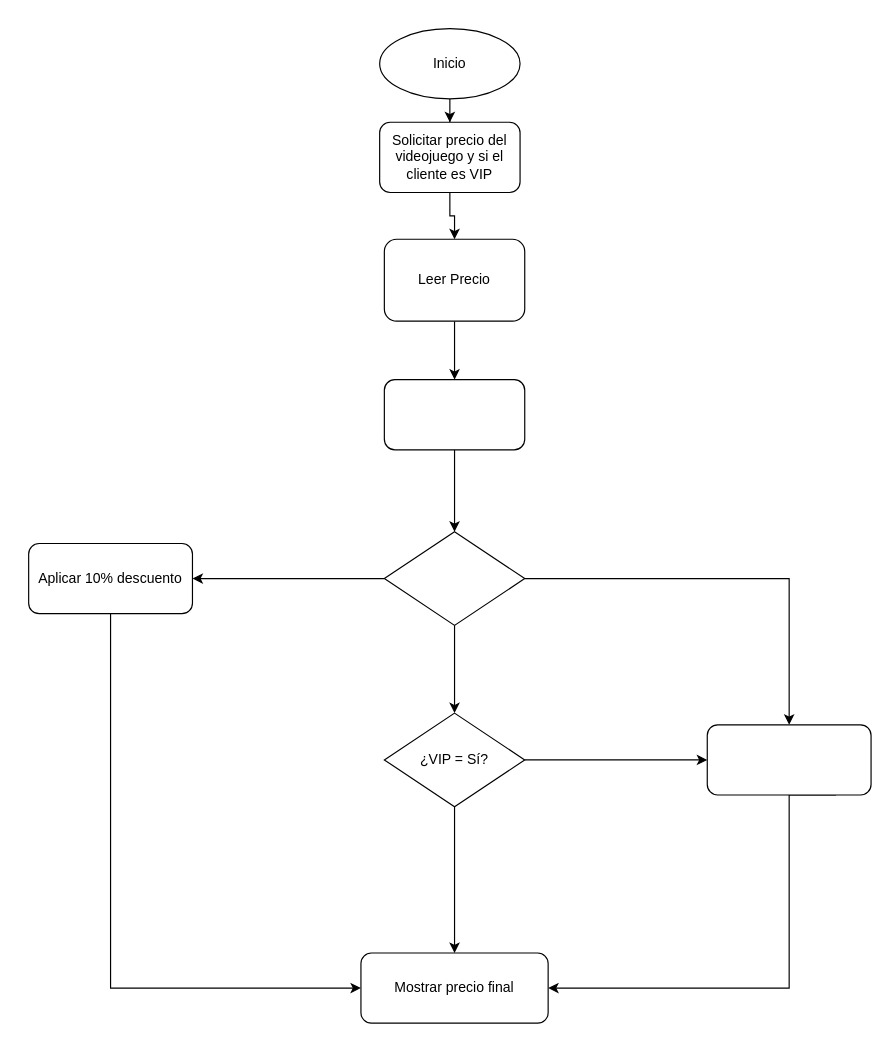
Some shapes in this 892 by 1044 pixel diagram are drawn without their labels. The centre of each missing label's shape, as x and y in pixels:
Aplicar 15% descuento: the point at 788,759
Leer VIP: the point at 454,414
¿precio ≥ 500?: the point at 454,578
